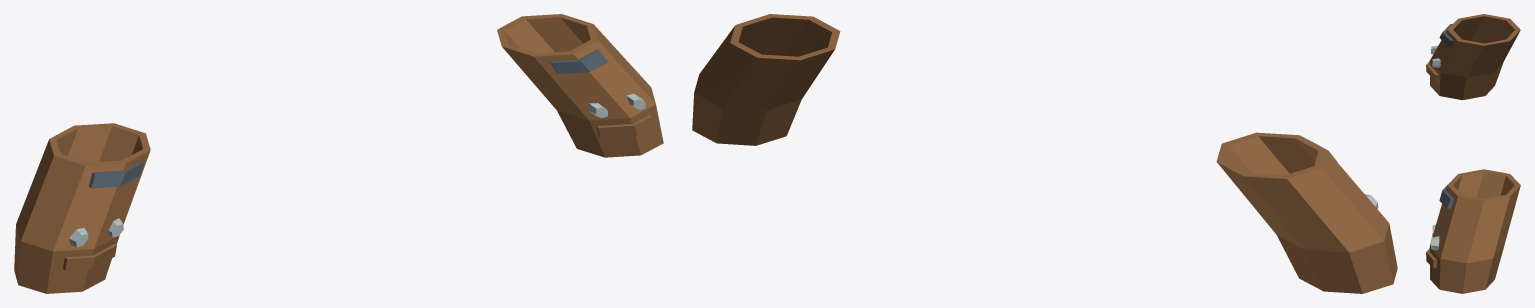
File: studded_wrists-female.glb
3 views of the same model, side by side, from view 1: azimuth 30°, elevation 25°; view 2: azimuth 150°, elevation 25°; view 3: azimuth 270°, elevation 25° (orthographic). The views are drawn at different scales.
Parts seen in each view (by area): view 1: studded wrist guard -1, studded wrist guard 1, Bracer rolled upper lip -1, Bracer rolled upper lip 1, Bracer lower fastening strap 1, Bracer lower fastening strap -1; view 2: studded wrist guard -1, studded wrist guard 1; view 3: studded wrist guard 1, studded wrist guard -1, Bracer rolled upper lip 1, Bracer rolled upper lip -1, Bracer lower fastening strap -1, Bracer lower fastening strap 1, Set rivet studded wrist guard 1 1, Set rivet studded wrist guard -1 1.
Boxes of the visible parts, x1,y1,x2,y2 form: studded wrist guard -1: [14, 123, 150, 293]; studded wrist guard 1: [497, 14, 663, 157]; Bracer rolled upper lip -1: [89, 161, 143, 188]; Bracer rolled upper lip 1: [549, 49, 607, 73]; Bracer lower fastening strap 1: [596, 115, 653, 137]; Bracer lower fastening strap -1: [63, 244, 116, 270]; studded wrist guard -1: [1216, 132, 1397, 293]; studded wrist guard 1: [692, 14, 840, 145]; studded wrist guard 1: [1429, 169, 1520, 293]; studded wrist guard -1: [1429, 14, 1520, 100]; Bracer rolled upper lip 1: [1439, 182, 1453, 208]; Bracer rolled upper lip -1: [1439, 24, 1453, 46]; Bracer lower fastening strap -1: [1426, 61, 1439, 82]; Bracer lower fastening strap 1: [1426, 249, 1436, 268]; Set rivet studded wrist guard 1 1: [1431, 236, 1439, 250]; Set rivet studded wrist guard -1 1: [1432, 58, 1440, 67].
Size of the model in its own units: 3.86 by 0.6079 by 0.6943.
